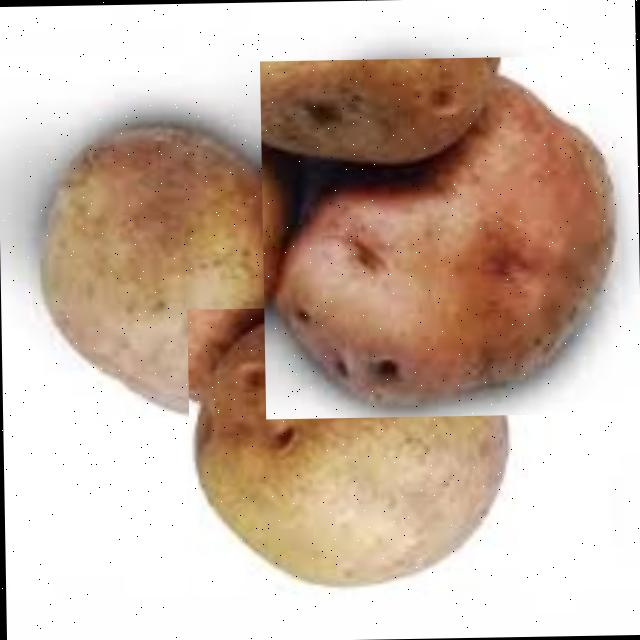Defected potato: (258, 54, 622, 418), (19, 115, 358, 434), (186, 302, 517, 598)
